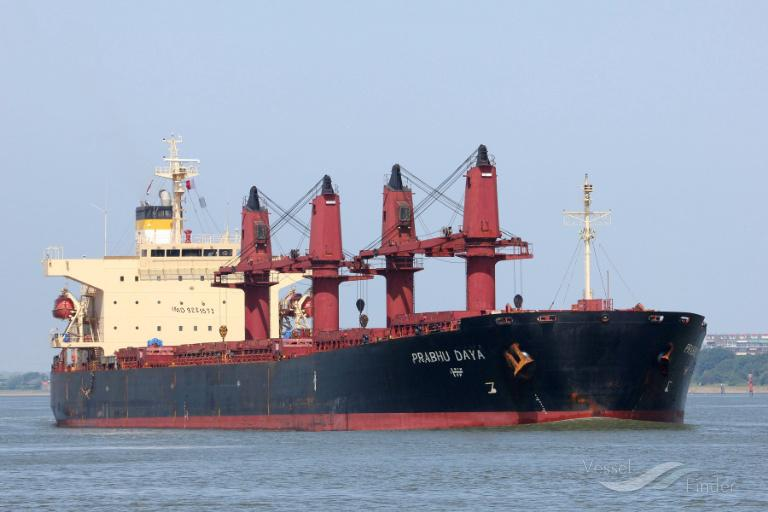OCR: (404, 338, 488, 368), (164, 297, 214, 321)
